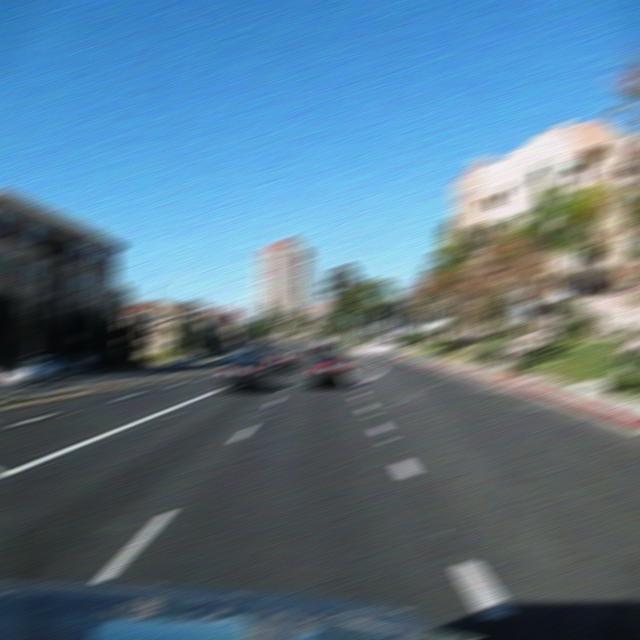speedLimit25: (512, 301, 530, 319)
